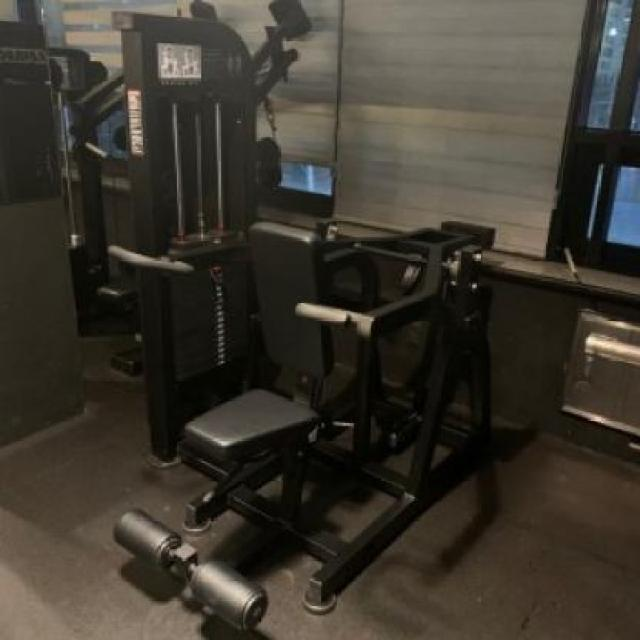seated dip machine: (104, 218, 502, 640)
